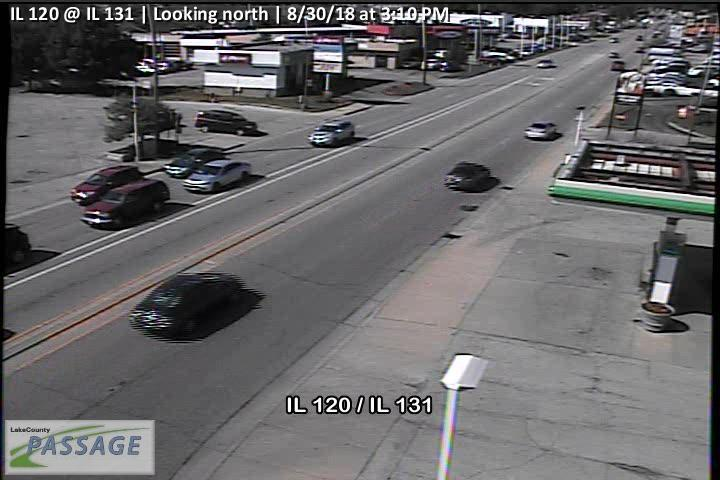SUV: (79, 178, 171, 231), (68, 166, 146, 208), (194, 109, 258, 136), (307, 118, 355, 148), (524, 122, 557, 140), (611, 60, 625, 70)
Sedan: (129, 270, 242, 339), (182, 158, 252, 195), (163, 148, 226, 179), (445, 161, 490, 188), (536, 58, 552, 67)
